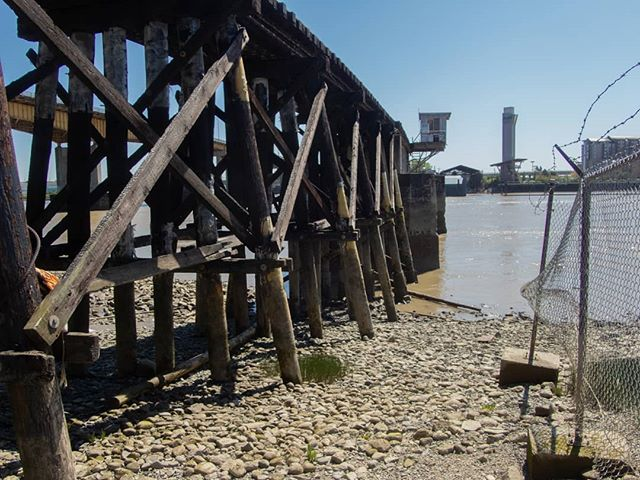bridge: (6, 1, 481, 378)
building: (585, 130, 640, 179), (410, 108, 458, 152)
river: (436, 184, 640, 323)
sky: (308, 1, 640, 156)
